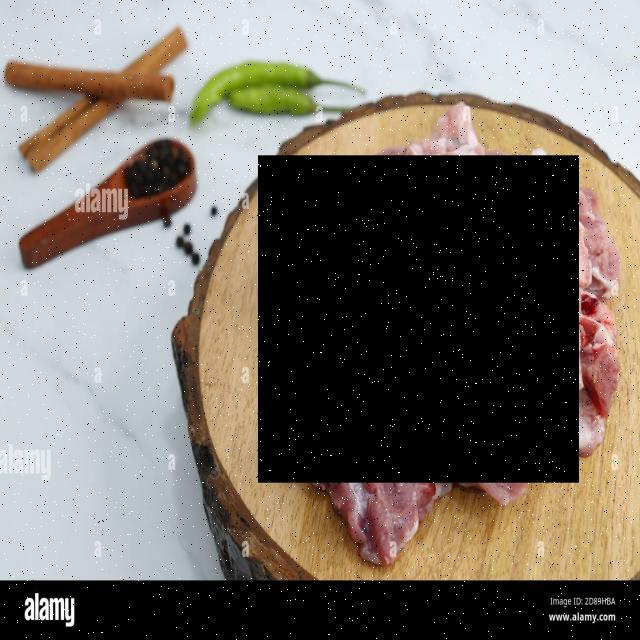Mutton: (258, 155, 579, 482)
